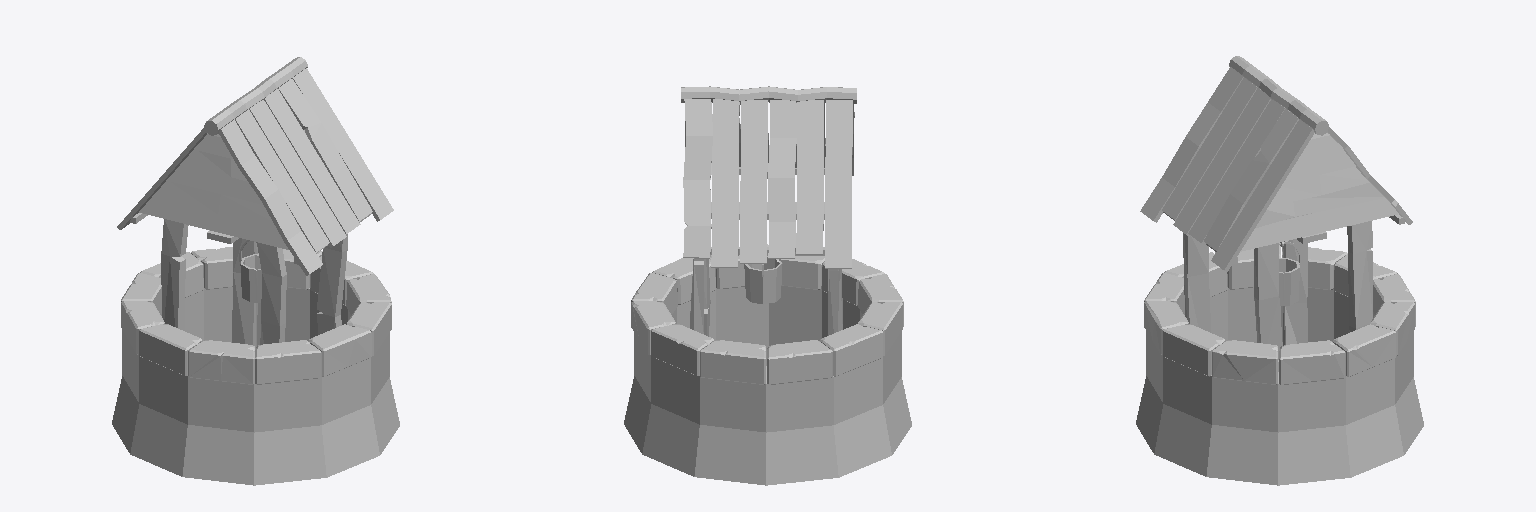
File: well.obj
The picture shows the model from 3 angles: view 1: azimuth 30°, elevation 25°; view 2: azimuth 150°, elevation 25°; view 3: azimuth 270°, elevation 25°; orthographic projection.
Visible parts, largest first — view 1: Well_1_Scene.024, Bucket_Scene.023; view 2: Well_1_Scene.024, Bucket_Scene.023; view 3: Well_1_Scene.024, Bucket_Scene.023.
Part boxes in pixels (left/top/right/bottom): Well_1_Scene.024: left=112, top=57, right=399, bottom=485; Bucket_Scene.023: left=239, top=240, right=261, bottom=302; Well_1_Scene.024: left=624, top=86, right=911, bottom=485; Bucket_Scene.023: left=744, top=256, right=782, bottom=304; Well_1_Scene.024: left=1136, top=56, right=1423, bottom=485; Bucket_Scene.023: left=1279, top=241, right=1301, bottom=305.
Size of the model in its own units: 1.86 by 2.4 by 1.86.